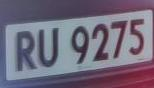2: (90, 17, 112, 68)
5: (128, 14, 148, 61)
7: (109, 15, 130, 64)
9: (68, 21, 92, 70)
R: (14, 28, 39, 75)
U: (37, 25, 63, 72)
